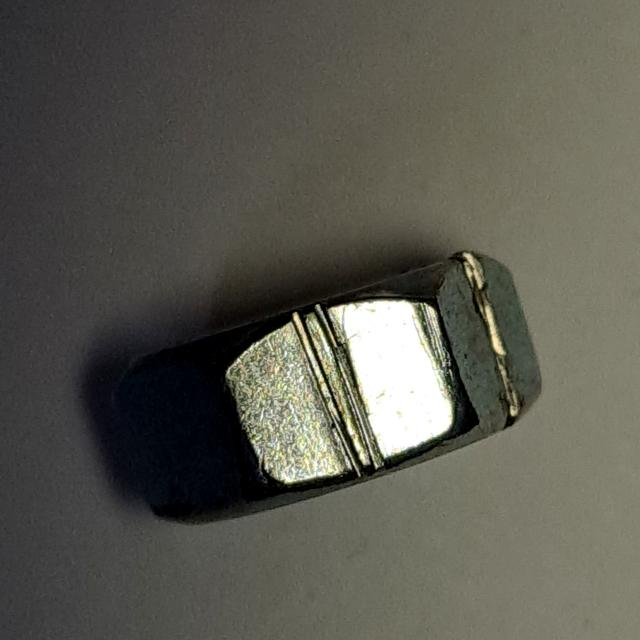Side_Scratches: (94, 224, 556, 551)
